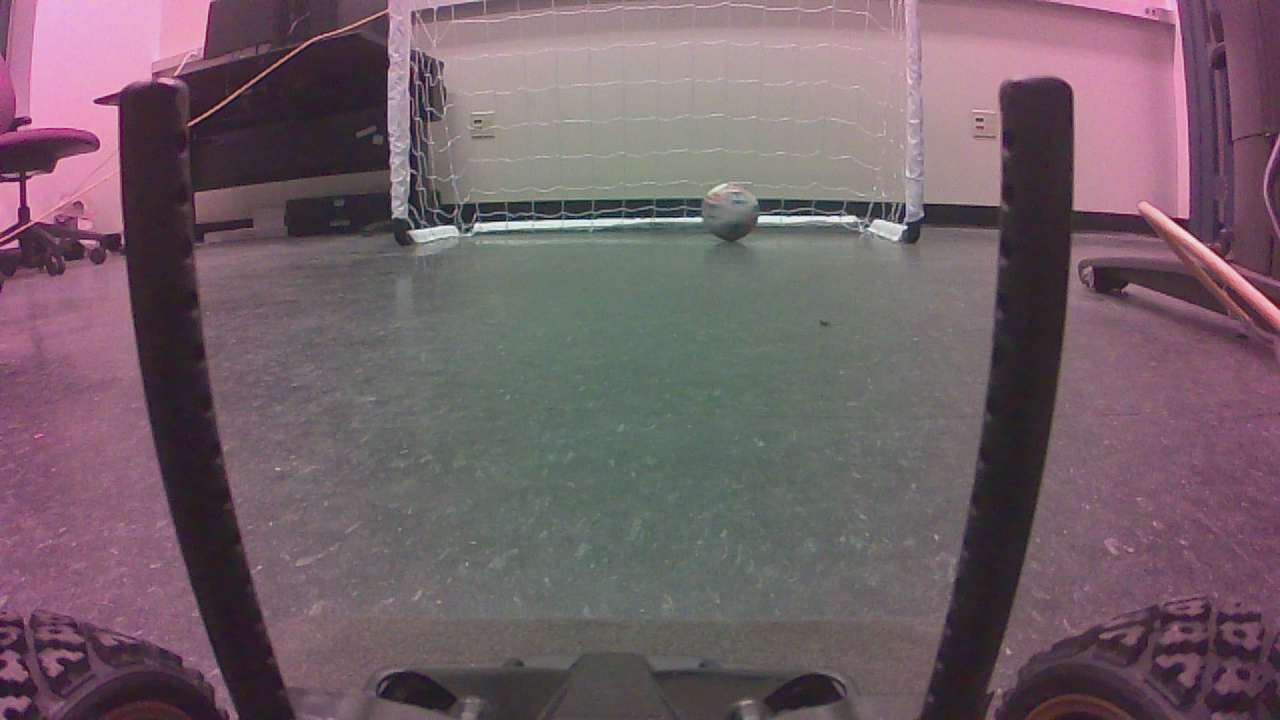ball: (705, 190, 765, 247)
goal: (392, 4, 935, 255)
